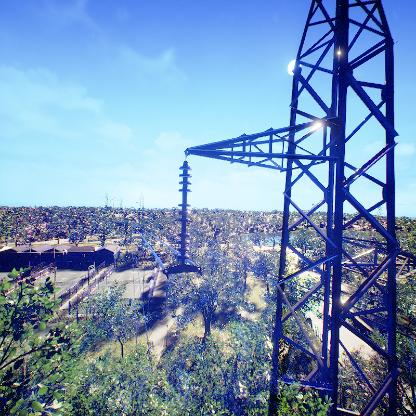insulator: (176, 164, 193, 264)
